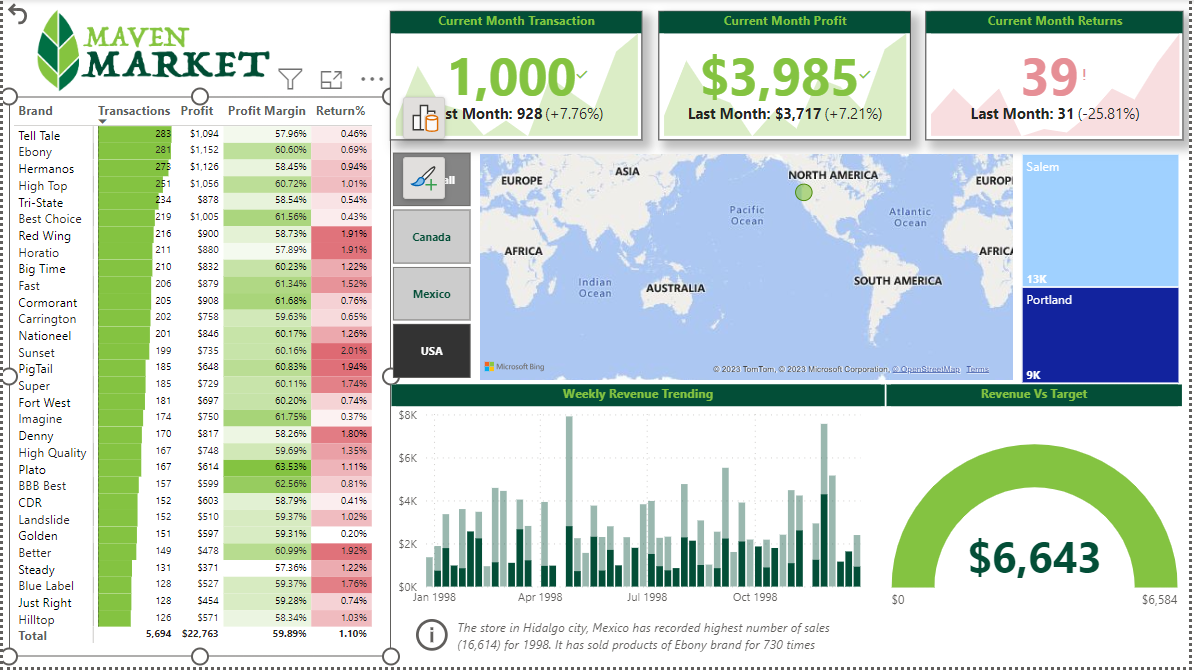

This screenshot's page, from the dashboard's own definition file:
{"tool":"powerbi","page":{"name":"Topline Performance","canvas":[1280,720],"ordinal":0},"visuals":[{"type":"image","box":[17.8,0,286.4,110],"z":0},{"type":"pivotTable","fields":{"Rows":["Products.product_brand"],"Values":["Measures (DAX).Total Transactions","Measures (DAX).Total Profit","Measures (DAX).Profit Margin","Measures (DAX).Return Rate"]},"box":[6.5,105.2,412.6,603.5],"z":1000},{"type":"kpi","title":"Current Month Transaction","fields":{"Indicator":["Measures (DAX).Total Transactions"],"TrendLine":["Calendar.Start of Month"],"Goal":["Measures (DAX).Last Month Transactions"]},"box":[417.4,13.3,271.8,139.1],"z":2000},{"type":"kpi","title":"Current Month Profit","fields":{"TrendLine":["Calendar.Start of Month"],"Indicator":["Measures (DAX).Total Profit"],"Goal":["Measures (DAX).Last Month Profit"]},"box":[706.2,13.3,271.8,139.1],"z":3000},{"type":"kpi","title":"Current Month Returns","fields":{"TrendLine":["Calendar.Start of Month"],"Indicator":["Measures (DAX).Total Returns"],"Goal":["Measures (DAX).Last Month Returns"]},"box":[995.1,13.3,278.3,139.1],"z":4000},{"type":"map","fields":{"Category":["Stores.store_city"],"Size":["Measures (DAX).Total Transactions"]},"box":[509.7,161.8,584.1,254],"z":5000},{"type":"slicer","fields":{"Values":["Stores.store_country"]},"box":[394.6,158.7,133.3,256.7],"z":6000},{"type":"treemap","fields":{"Group":["Stores.store_country","Stores.store_state","Stores.store_city"],"Values":["Measures (DAX).Total Transactions"]},"box":[1093.8,161.8,179.6,257.3],"z":7000},{"type":"columnChart","title":"Weekly Revenue Trending","fields":{"Category":["Calendar.Start of Week"],"Y":["Measures (DAX).Total Revenue"]},"box":[419.1,415.8,532.3,247.6],"z":8000},{"type":"gauge","title":"Revenue Vs Target","fields":{"Y":["Measures (DAX).Total Revenue"],"MaxValue":["Measures (DAX).Revenue Target"]},"box":[953,415.8,318.7,292.9],"z":9000},{"type":"actionButton","box":[440,663.3,458.3,45],"z":10000},{"type":"actionButton","box":[0,0,41.7,31.7],"z":11000}]}

Visuals, with their boxes in screenshot pixels (x1, y1, x2, y2):
image: bbox=[19, 0, 283, 98]
pivotTable - Products.product_brand x Measures (DAX).Total Transactions: bbox=[9, 94, 389, 649]
"Current Month Transaction" kpi: bbox=[387, 9, 637, 137]
"Current Month Profit" kpi: bbox=[653, 9, 903, 137]
"Current Month Returns" kpi: bbox=[919, 9, 1175, 137]
map - Stores.store_city x Measures (DAX).Total Transactions: bbox=[472, 146, 1009, 379]
slicer - Stores.store_country: bbox=[366, 143, 489, 379]
treemap - Stores.store_country x Stores.store_state: bbox=[1009, 146, 1175, 382]
"Weekly Revenue Trending" columnChart: bbox=[389, 379, 878, 607]
"Revenue Vs Target" gauge: bbox=[880, 379, 1173, 649]
actionButton: bbox=[408, 607, 829, 648]
actionButton: bbox=[3, 0, 41, 26]
